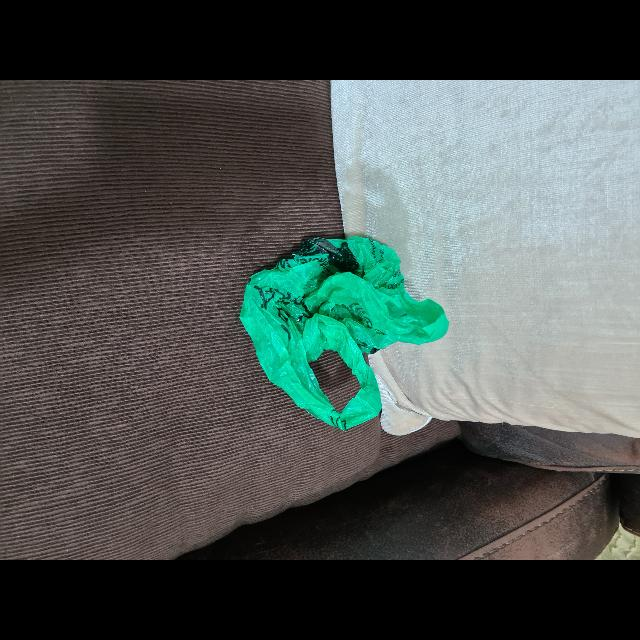plastic_bag: (243, 235, 434, 431)
